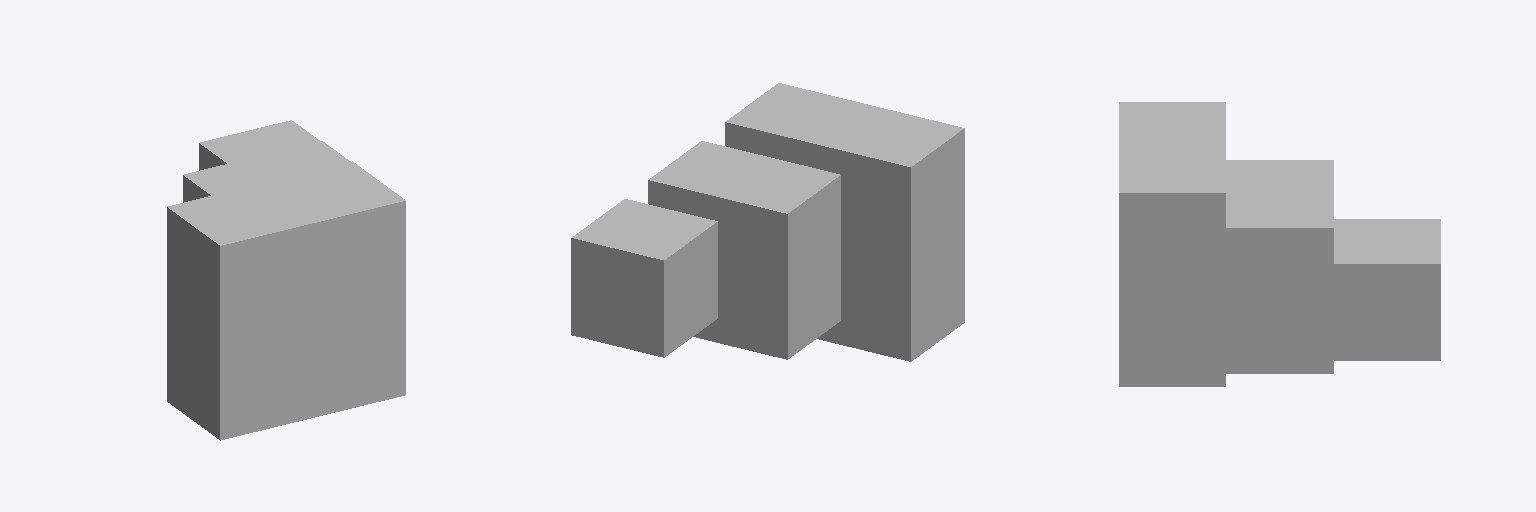
File: charging.obj
The picture shows the model from 3 angles: view 1: azimuth 30°, elevation 25°; view 2: azimuth 150°, elevation 25°; view 3: azimuth 270°, elevation 25°; orthographic projection.
Size of the model in its own units: 0.3125 by 0.25 by 0.375.